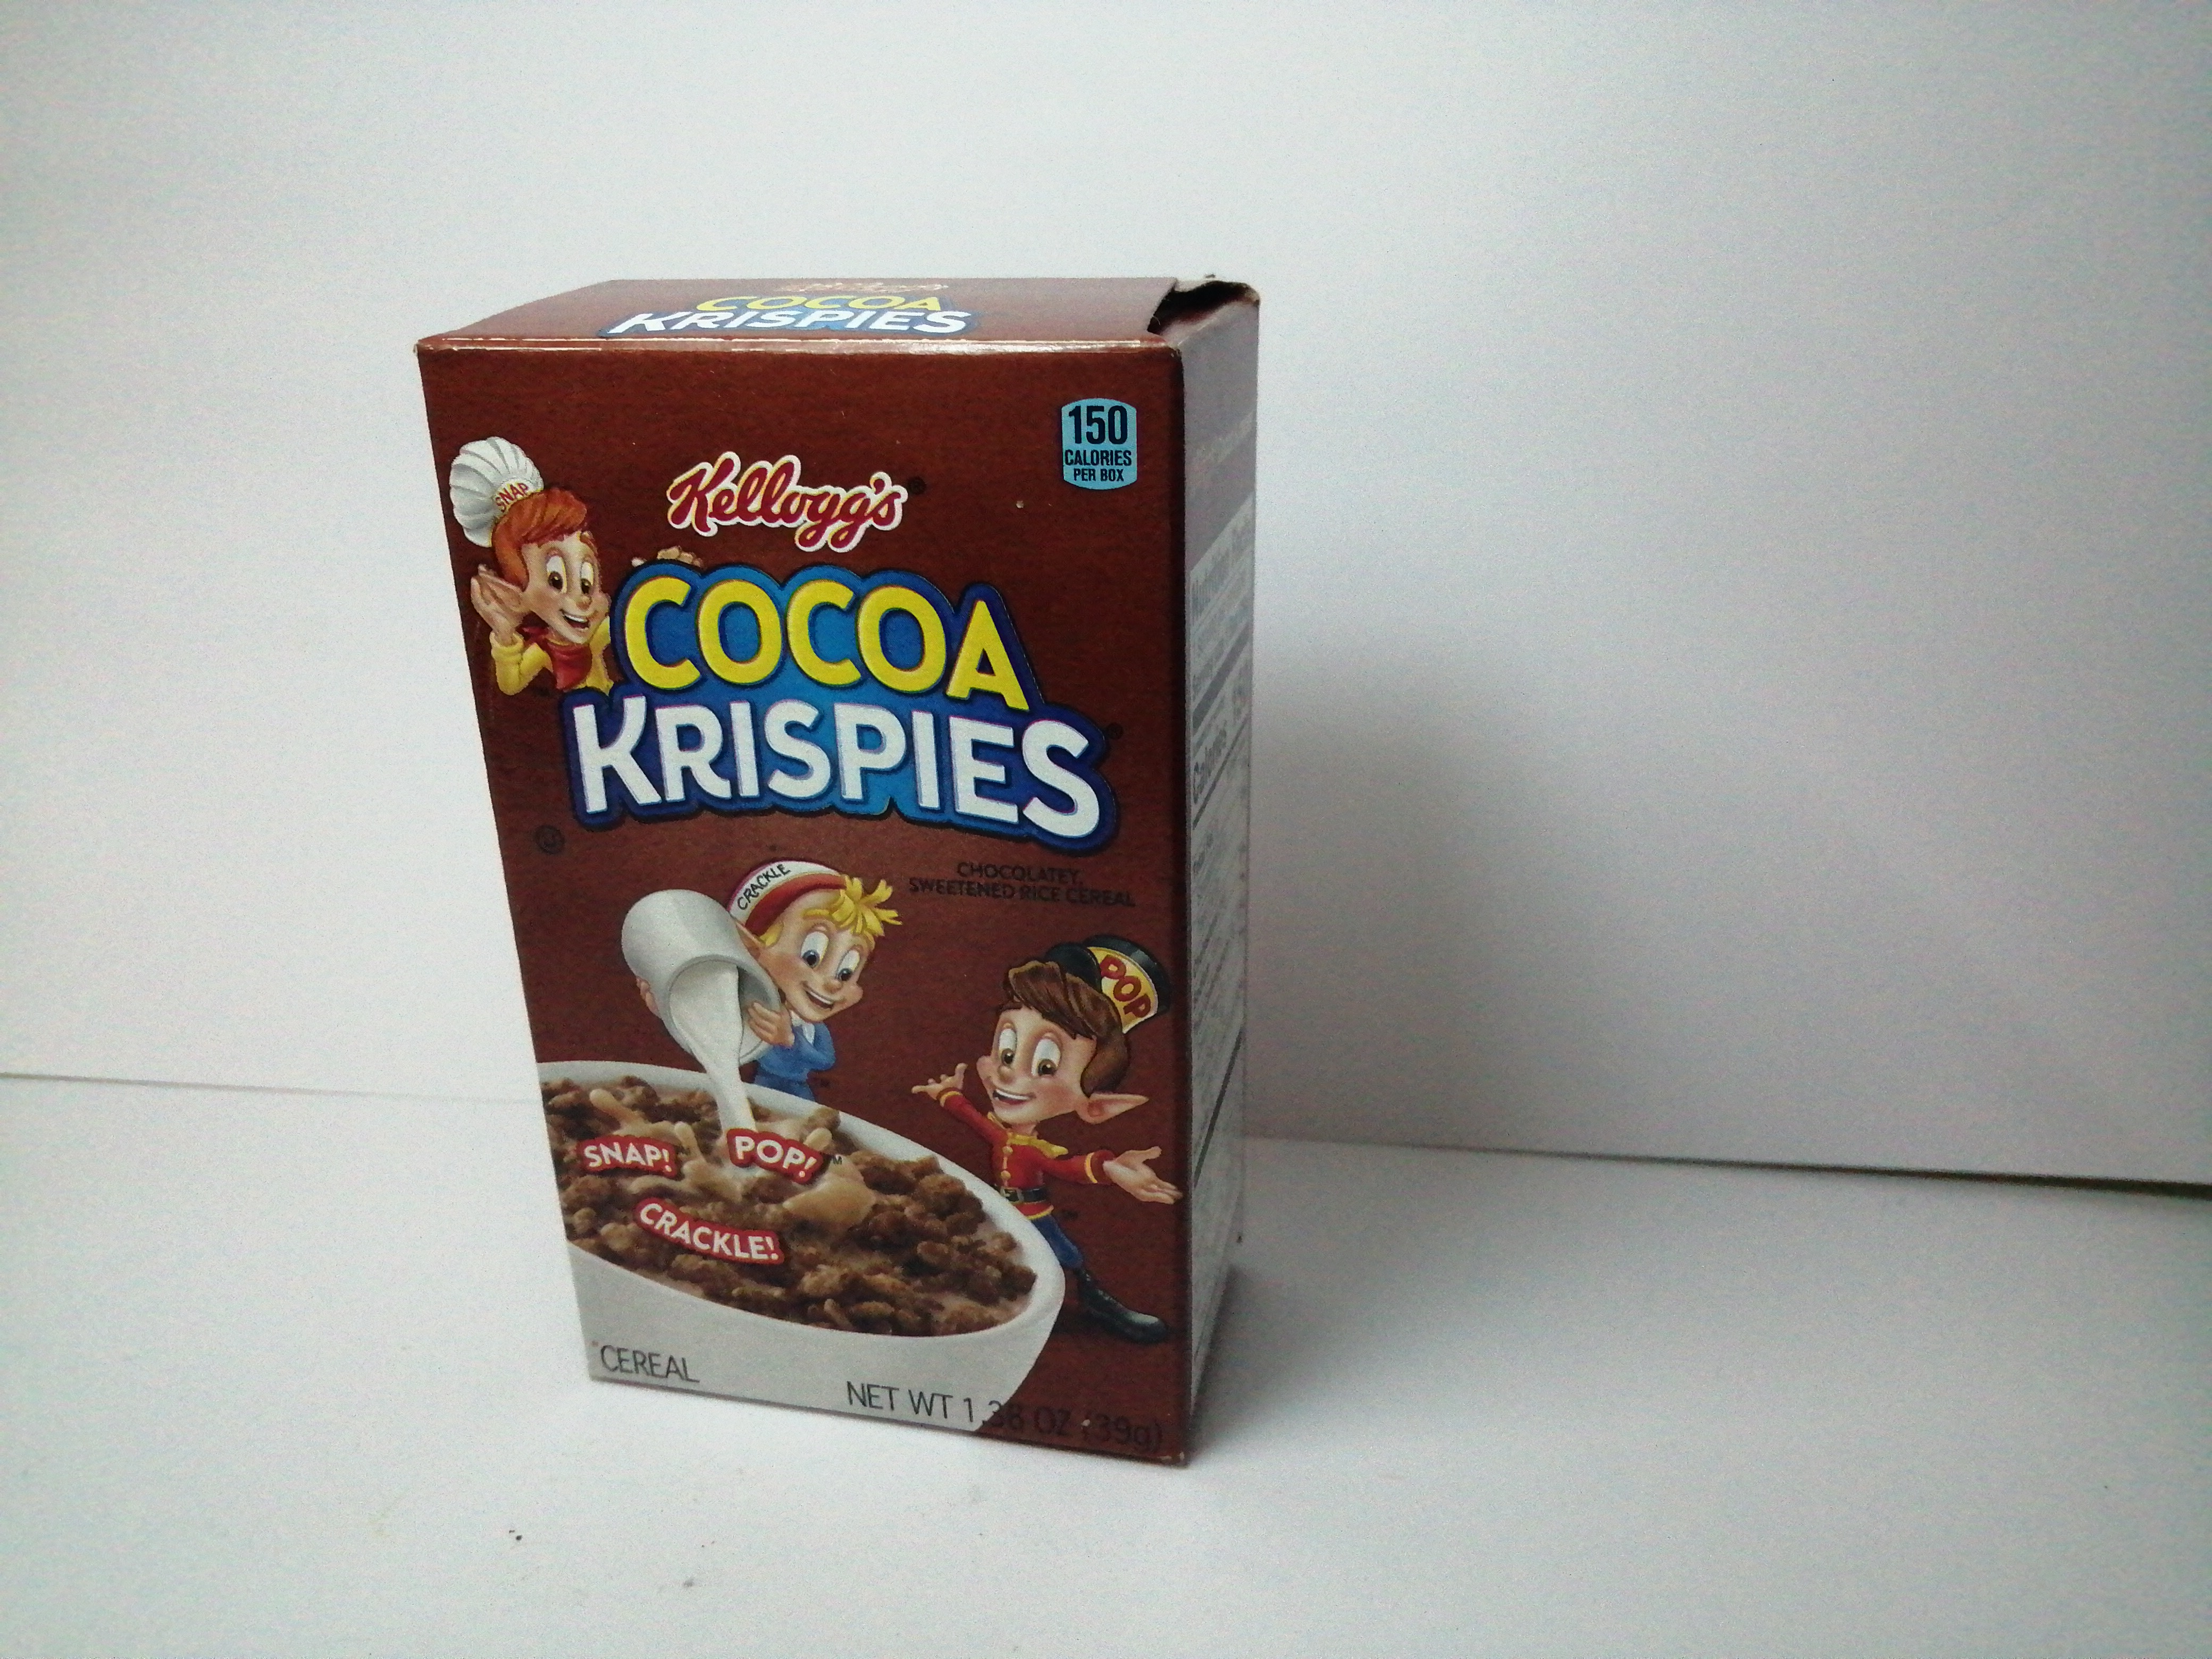cereal chocolate: (399, 230, 1280, 1462)
